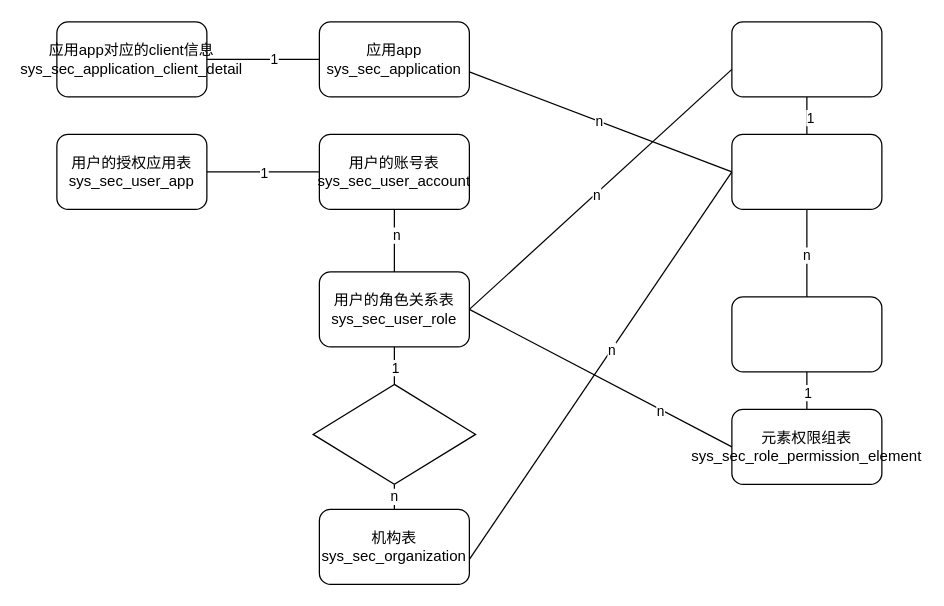
The diagram is 944 pixels wide and 606 high, and some of its shapes have lost their labels. The shapes that lost their labels are listed below. From the top down, each one's box as (x1, y1, x2, y2) in pixels, then its label:
(731, 21, 882, 97): 菜单权限组表 sys_sec_role_permission_menu
(731, 133, 882, 209): 权限菜单表 sys_sec_menu
(731, 296, 882, 372): 权限元素表 sys_sec_element
(312, 383, 476, 484): 机构角色关系表 sys_sec_organization_role
